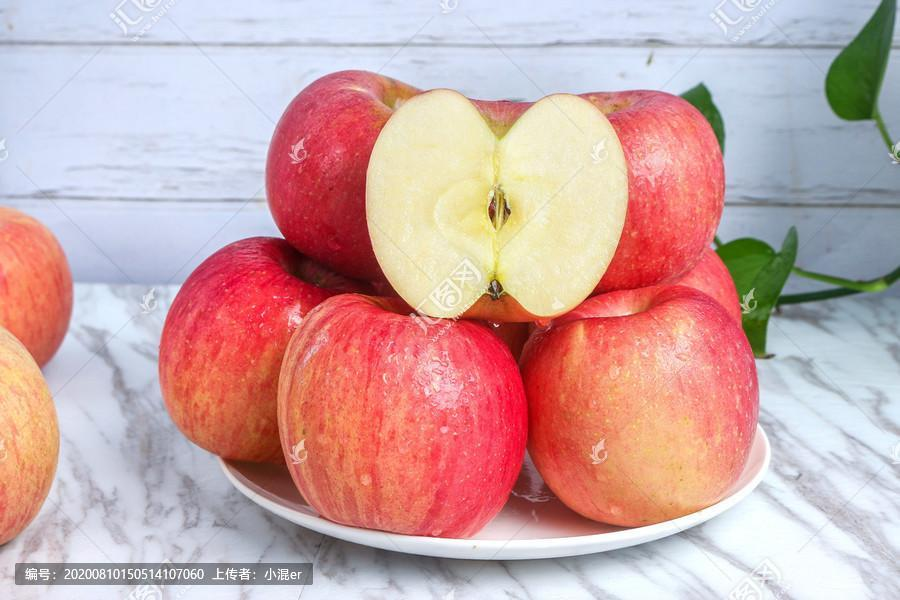apple: (277, 289, 530, 536), (521, 282, 760, 521), (154, 235, 376, 460), (265, 69, 413, 290), (574, 87, 728, 285), (1, 327, 58, 546), (1, 203, 73, 370)
